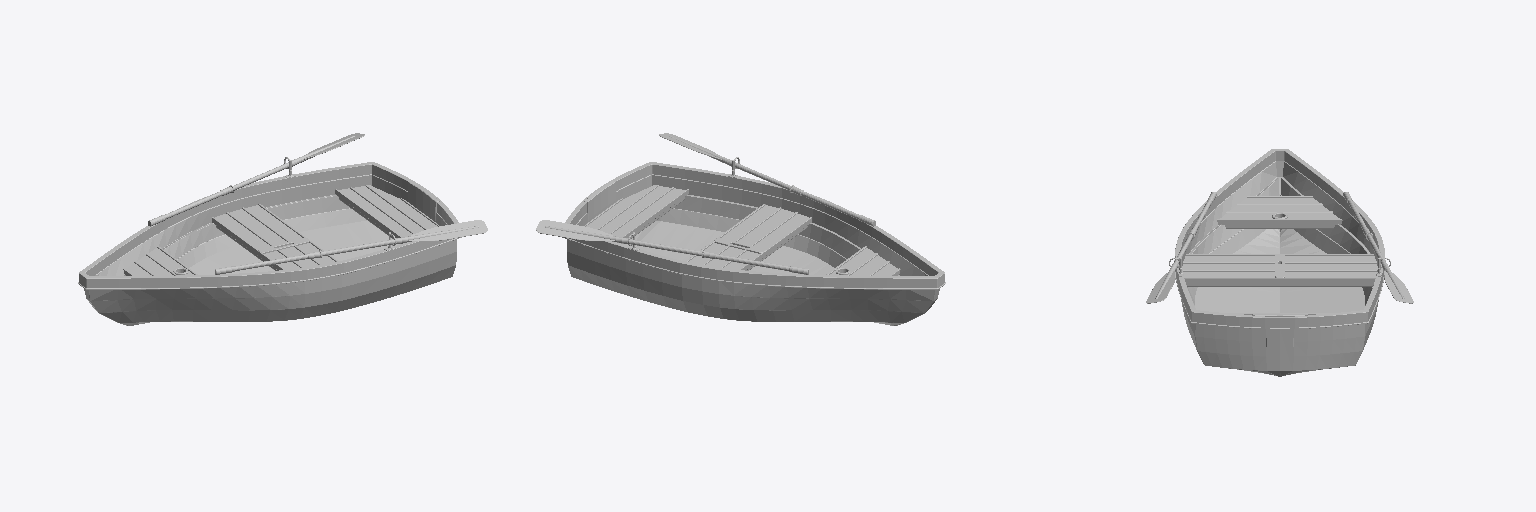
Rendered from ship.obj.
3 views of the same model, side by side, from view 1: azimuth 30°, elevation 25°; view 2: azimuth 150°, elevation 25°; view 3: azimuth 270°, elevation 25° (orthographic).
Parts seen in each view (by area): view 1: arch48_014_obj_01, arch48_014_obj_02, arch48_014_obj_00, arch48_014_obj_03, arch48_014_obj_04; view 2: arch48_014_obj_01, arch48_014_obj_02, arch48_014_obj_00, arch48_014_obj_03, arch48_014_obj_04; view 3: arch48_014_obj_01, arch48_014_obj_02, arch48_014_obj_00, arch48_014_obj_04, arch48_014_obj_03.
Part boxes in pixels (bbox=[...]): arch48_014_obj_01: bbox=[78, 162, 461, 325]; arch48_014_obj_02: bbox=[123, 185, 438, 275]; arch48_014_obj_00: bbox=[148, 133, 487, 274]; arch48_014_obj_03: bbox=[164, 162, 394, 270]; arch48_014_obj_04: bbox=[285, 174, 439, 250]; arch48_014_obj_01: bbox=[562, 162, 945, 325]; arch48_014_obj_02: bbox=[585, 185, 900, 275]; arch48_014_obj_00: bbox=[536, 133, 875, 274]; arch48_014_obj_03: bbox=[629, 162, 859, 270]; arch48_014_obj_04: bbox=[584, 174, 738, 250]; arch48_014_obj_01: bbox=[1174, 149, 1385, 376]; arch48_014_obj_02: bbox=[1182, 196, 1377, 314]; arch48_014_obj_00: bbox=[1146, 192, 1413, 303]; arch48_014_obj_04: bbox=[1178, 271, 1381, 370]; arch48_014_obj_03: bbox=[1174, 199, 1385, 264].
Bounding box in the file's own units: 98.69 × 21.28 × 65.82.